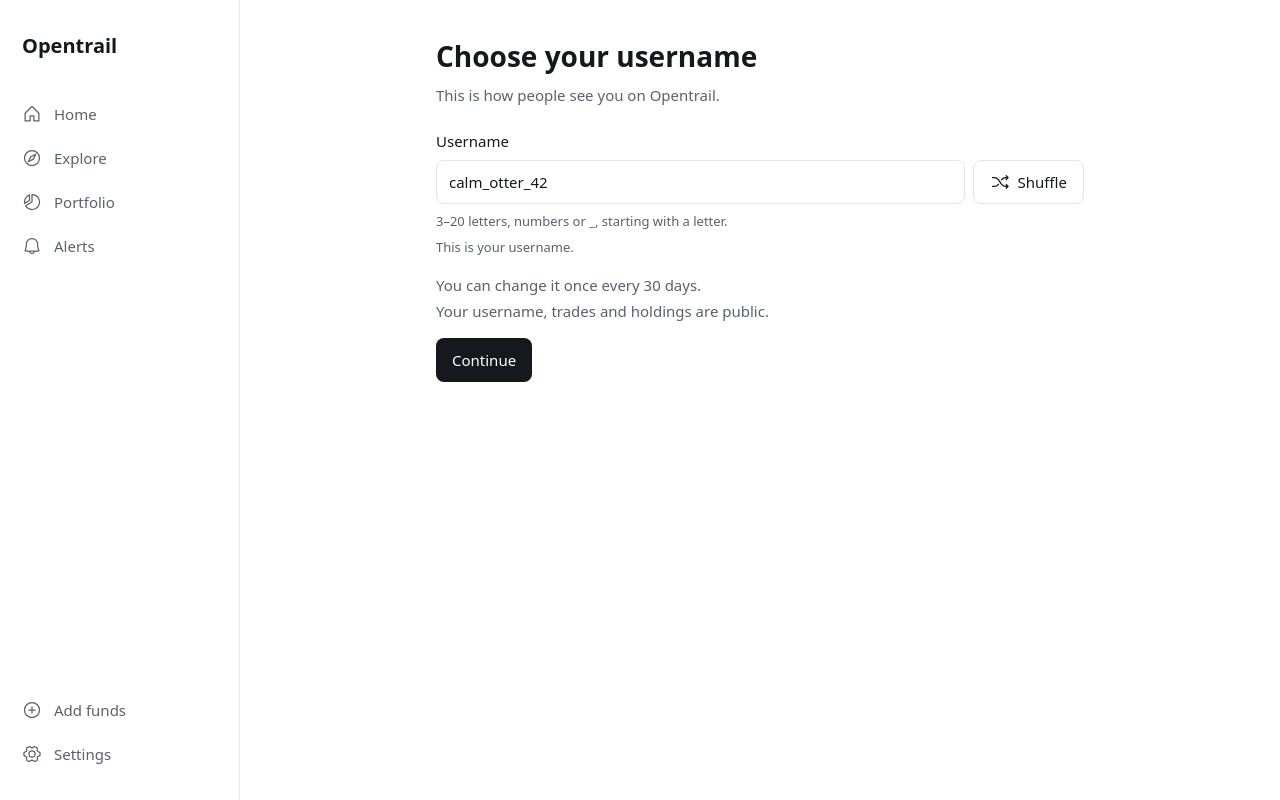
Test: onboarding › explains why maya can't be used, and won't continue
Expected: the heading "Choose your username" is shown, [436,40,757,72]
Replace the text in the field labelled "Username" with "maya" at (700,182), box [436,160,965,204]
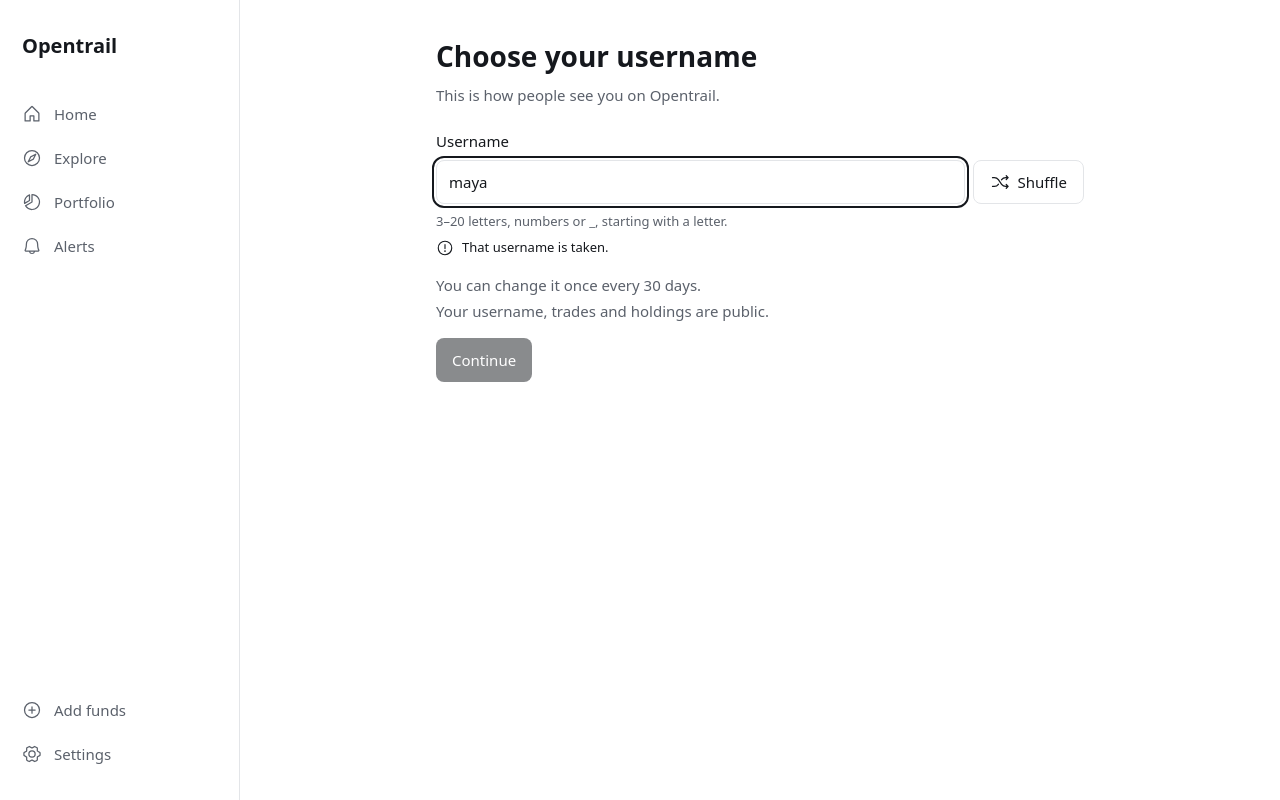
Now the button "Continue" is disabled, box [436,338,532,382]
Now the text "That username is taken." is shown, box [436,238,608,257]
